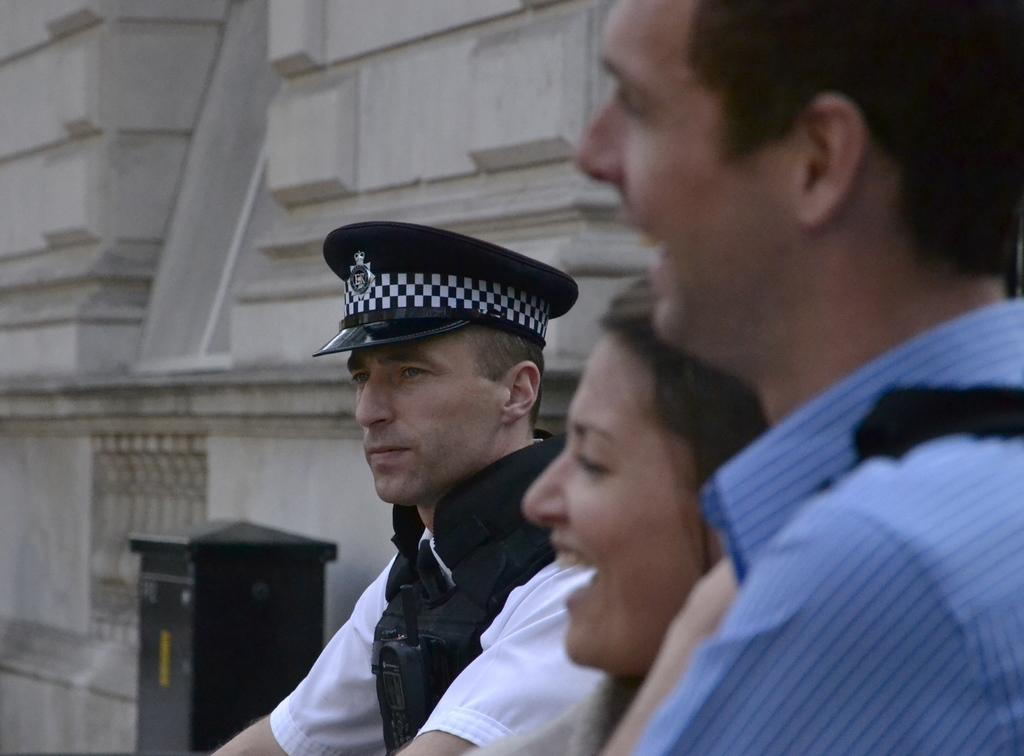Hat: (310, 221, 580, 357)
